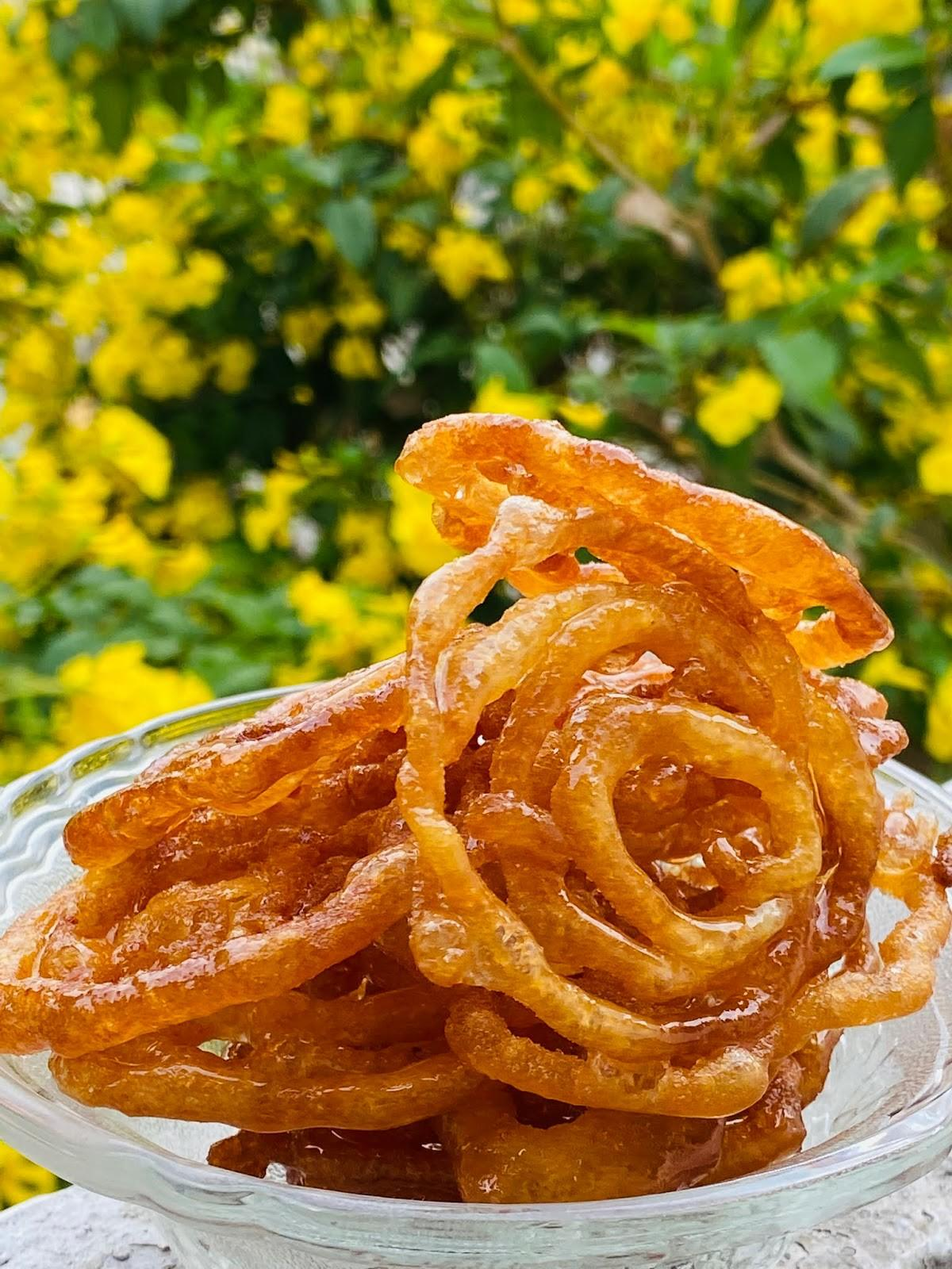Jalebi: (6, 410, 952, 1204)
